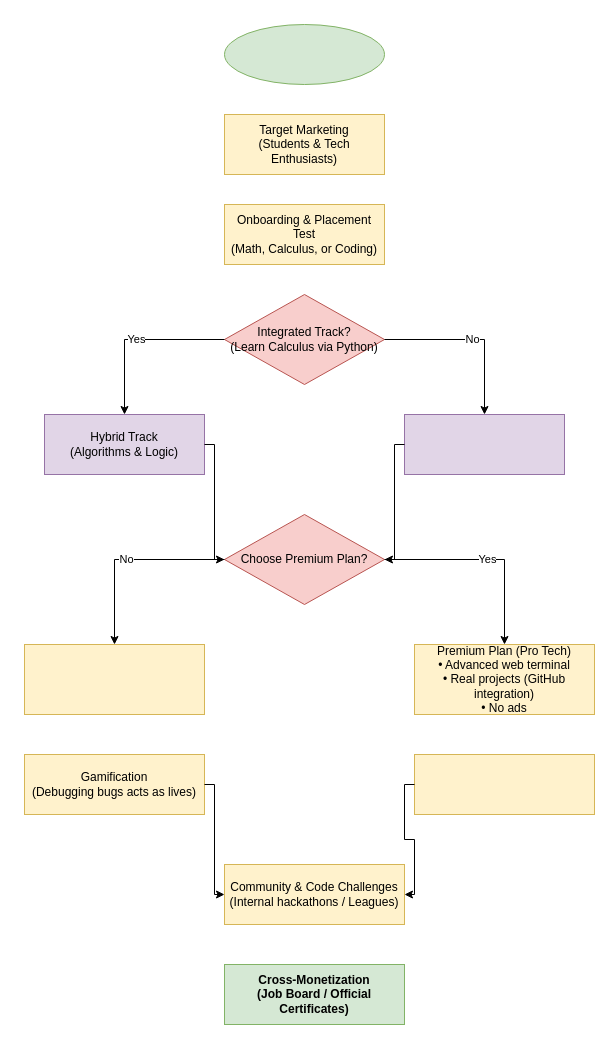
Image size: 612x1042. Some labels were removed from this diagram. Each missing label, with the centre of its shape:
"AI Assistant (Code review & instant hints)" belongs at pixel 504 784.
"Free Access (Freemium) • Basic code sandbox • In-app advertisements" belongs at pixel 114 679.
"Specialized Tracks (Math Only or Code Only)" belongs at pixel 484 444.
"Start: Math & Code App" belongs at pixel 304 54.
